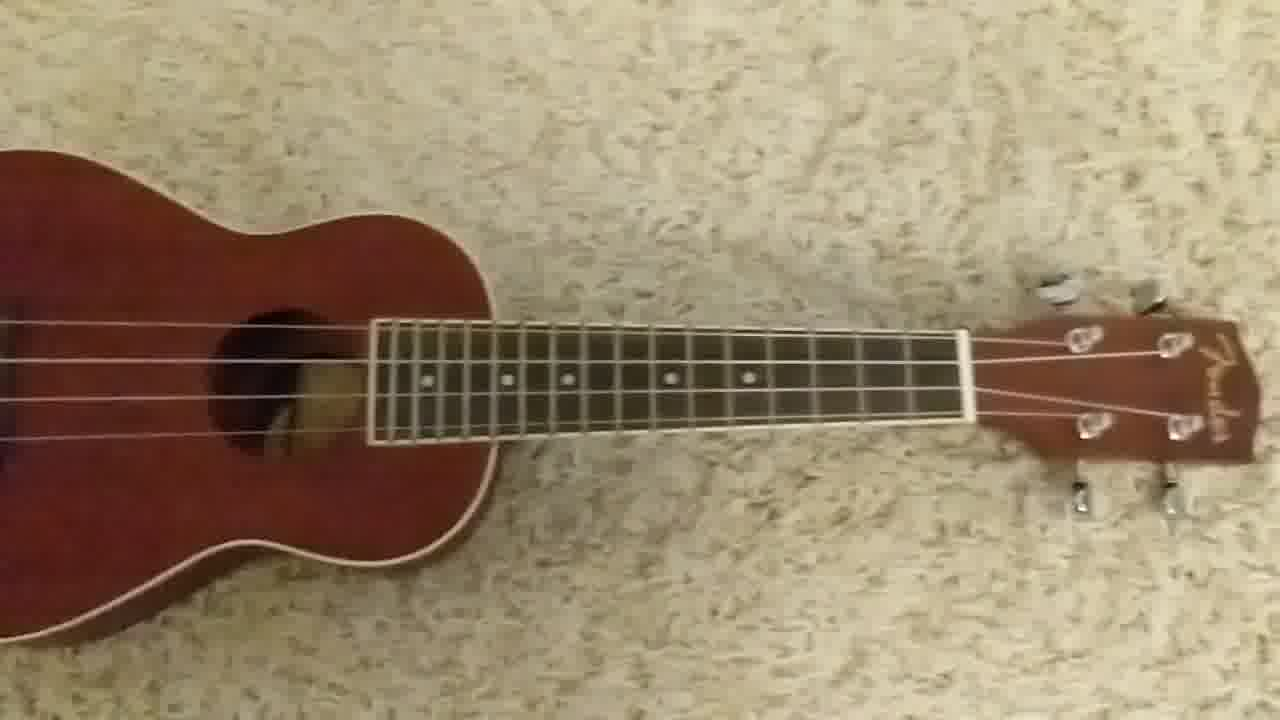Body: (1, 146, 500, 652)
Headstock: (970, 272, 1259, 522)
